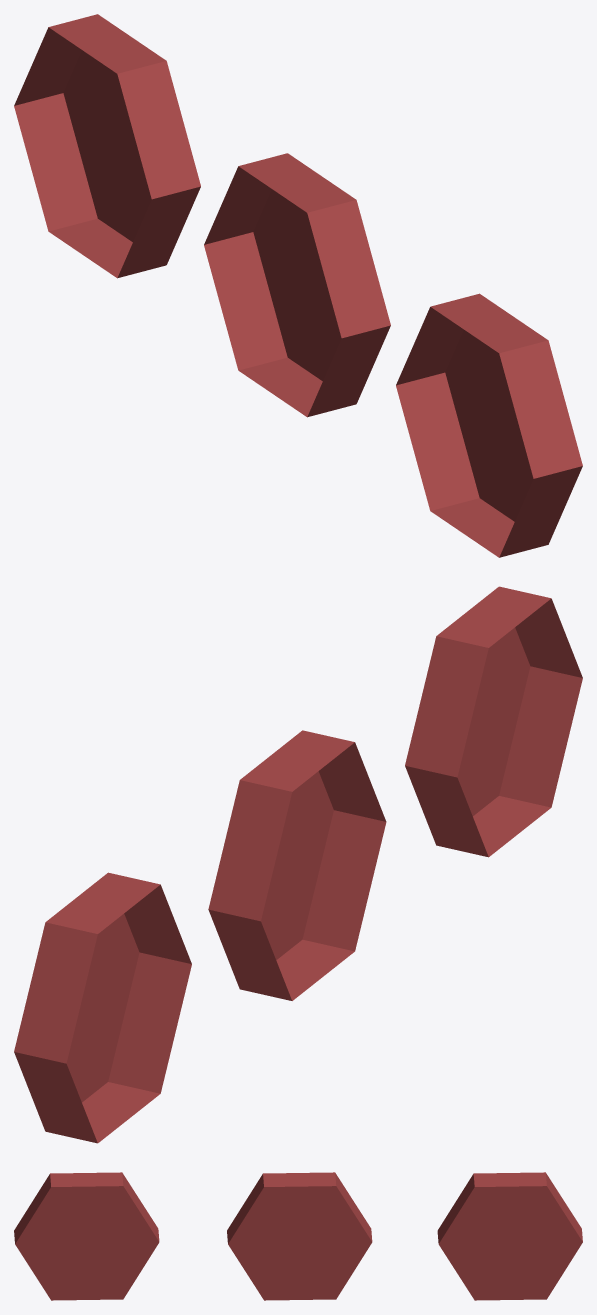
The model's file is BUTTONS_v2.fbx.
3 renders of one model, top to bottom at view 1: azimuth 30°, elevation 25°; view 2: azimuth 150°, elevation 25°; view 3: azimuth 270°, elevation 25°, orthographic. The views are drawn at different scales.
Visible parts, largest first — view 1: BUTTONS; view 2: BUTTONS; view 3: BUTTONS.
Boxes of the visible parts, bbox=[...] form: BUTTONS: bbox=[14, 14, 582, 557]; BUTTONS: bbox=[14, 586, 582, 1143]; BUTTONS: bbox=[14, 1172, 582, 1300].
Size of the model in its own units: 0.00467 by 0.0158 by 0.0717.
